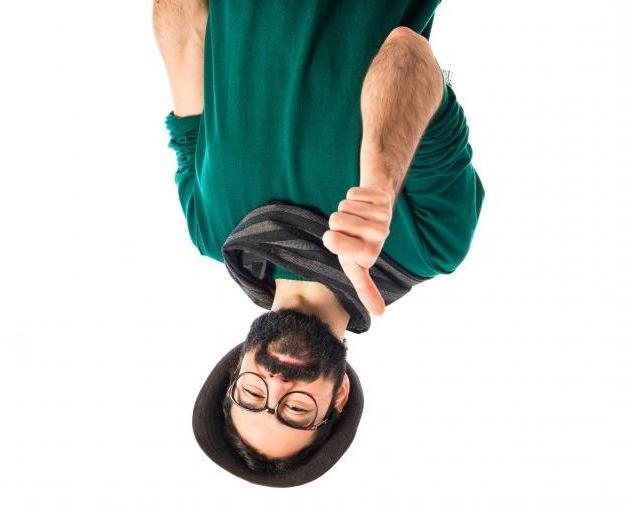thumbsdown: (322, 186, 393, 316)
